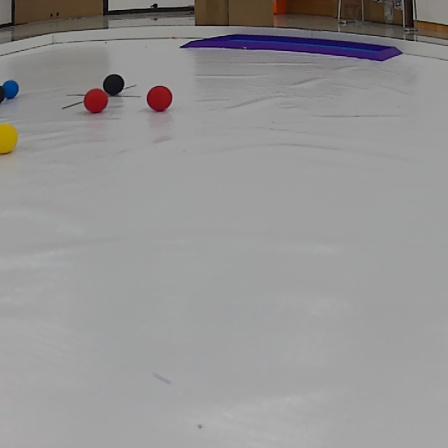black: (103, 73, 122, 93)
blue: (2, 79, 24, 97)
blue_aim: (184, 28, 408, 68)
red: (148, 81, 174, 113), (79, 87, 110, 113)
yellow: (0, 123, 18, 158)
